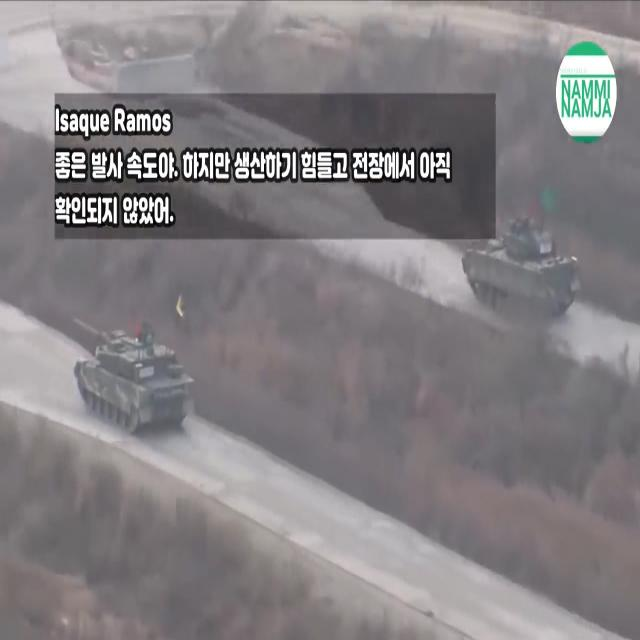korea tank: (72, 314, 196, 436)
